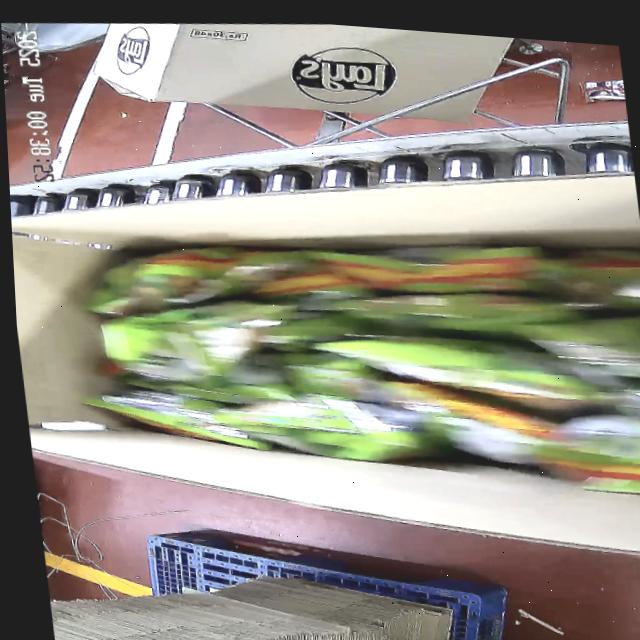YOGURT_HERB: (63, 202, 640, 535)
